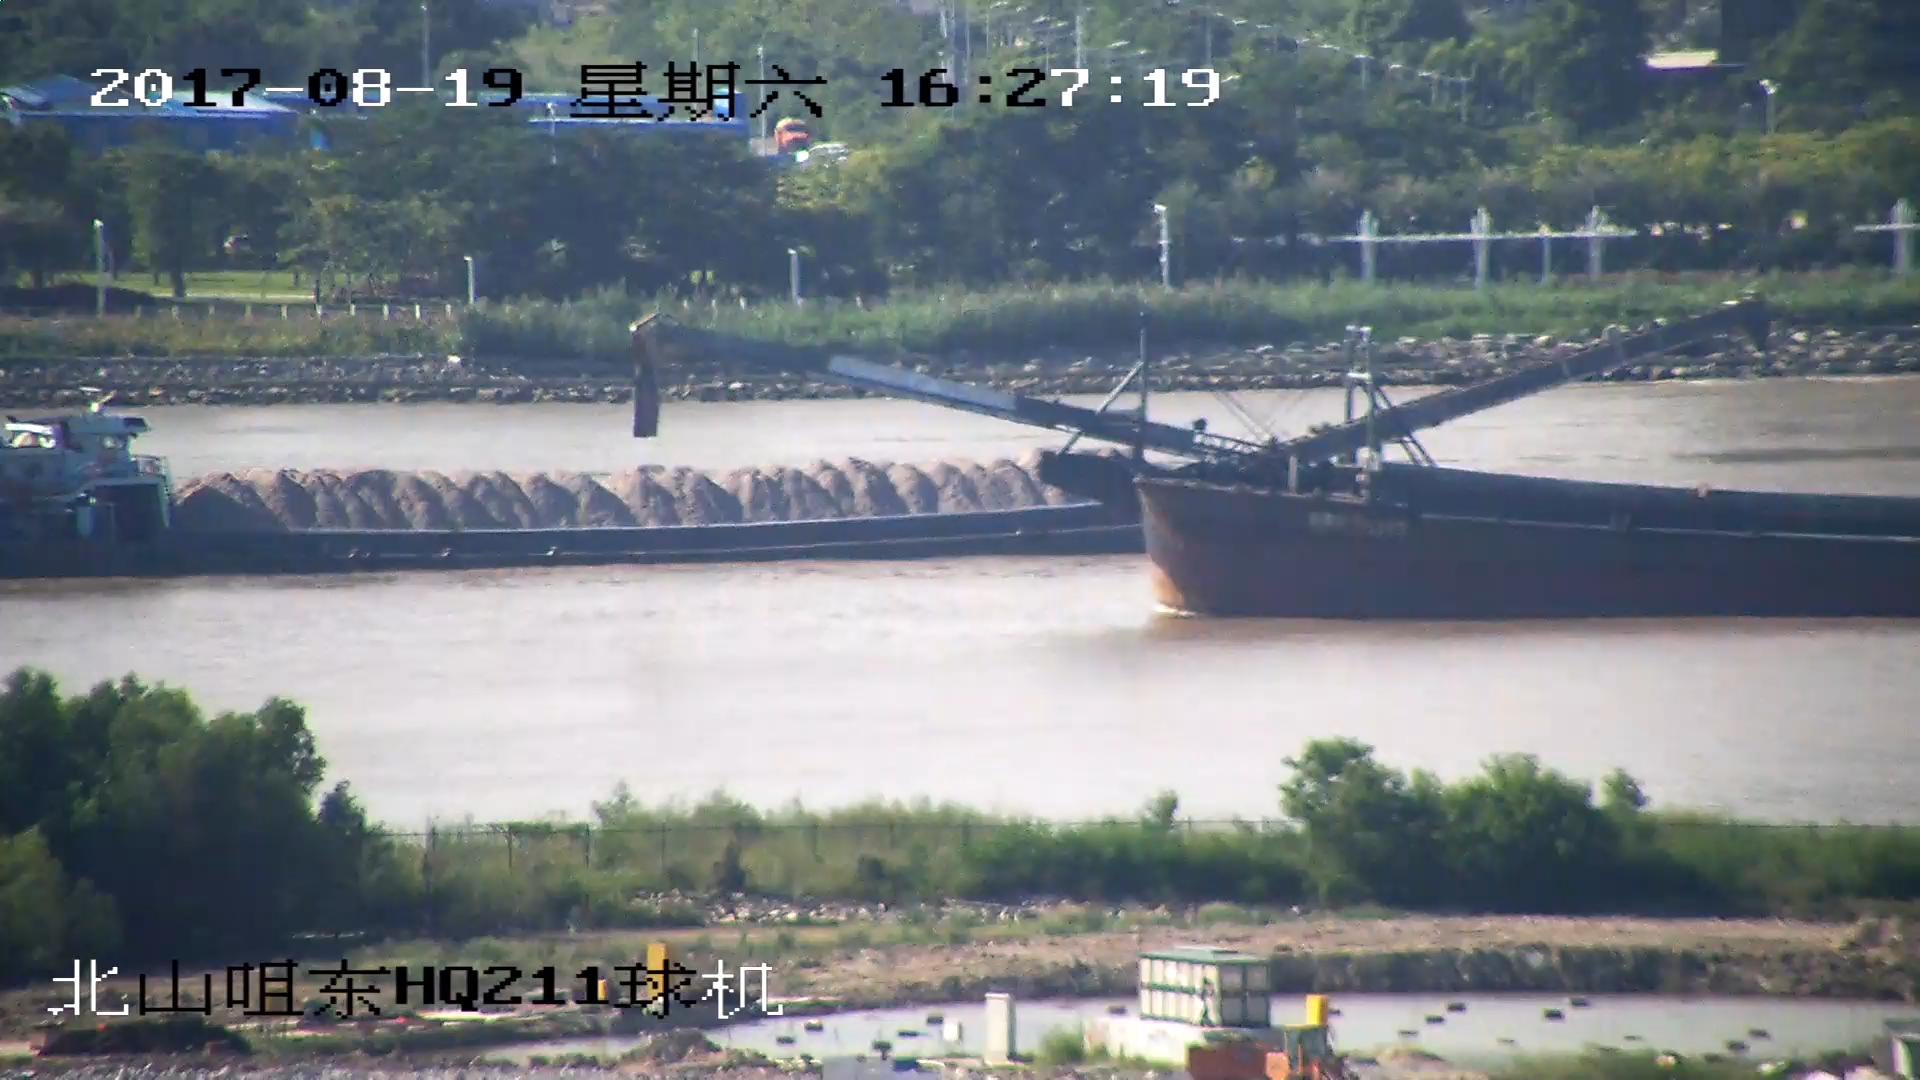bulk cargo carrier: (630, 323, 1920, 625)
ore carrier: (1, 291, 1761, 581)
